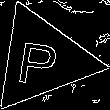P_N: (19, 32, 66, 87)
